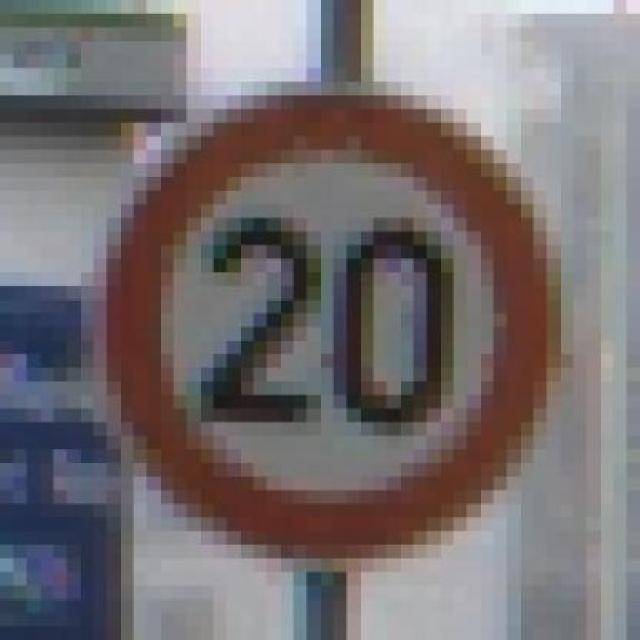forb_speed_over_20: (106, 93, 559, 558)
